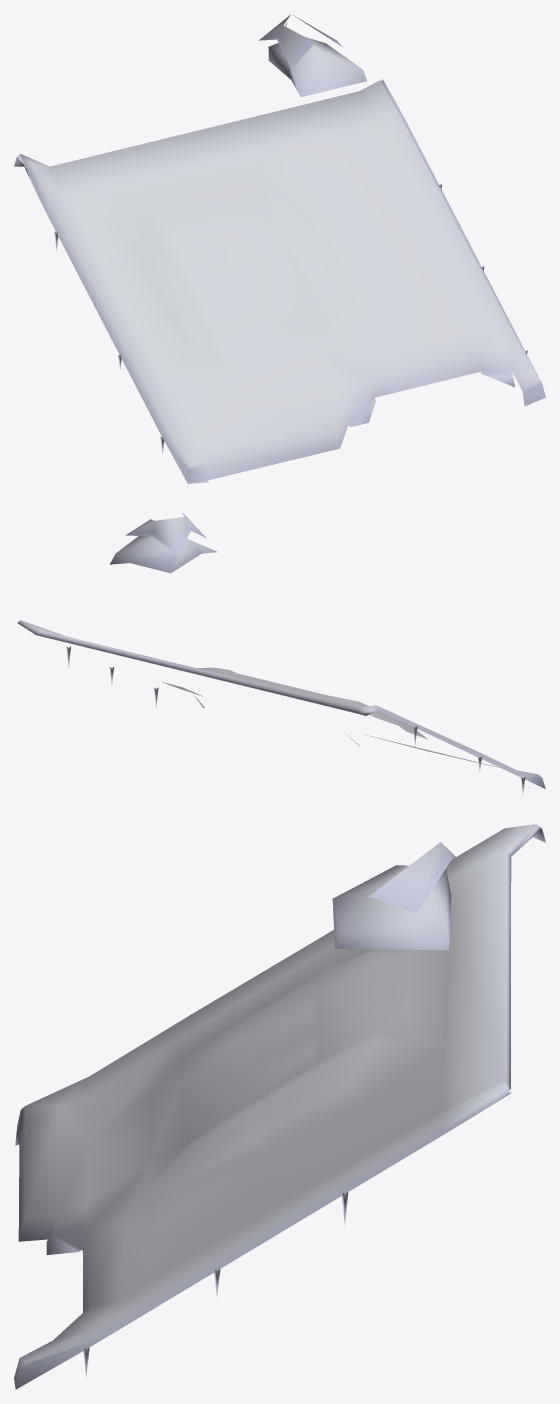
The model's file is category.nft.s.snow.glb.
The picture shows the model from 3 angles, top to bottom: view 1: azimuth 30°, elevation 25°; view 2: azimuth 150°, elevation 25°; view 3: azimuth 270°, elevation 25°; orthographic projection. The views are drawn at different scales.
Visible parts, largest first — view 1: snow, tier.4, tier.6; view 2: snow, tier.4, tier.6; view 3: snow, tier.4, tier.6.
Boxes of the visible parts, box(x1,y1,x2,y2) form: snow: box(14, 79, 545, 483); tier.4: box(268, 37, 366, 97); tier.6: box(259, 14, 342, 68); snow: box(17, 620, 545, 794); tier.4: box(110, 536, 217, 573); tier.6: box(126, 512, 206, 555); snow: box(14, 824, 545, 1389); tier.4: box(332, 865, 451, 949); tier.6: box(368, 842, 455, 913).
Bounding box in the file's own units: 3.38 × 2.76 × 2.83.
